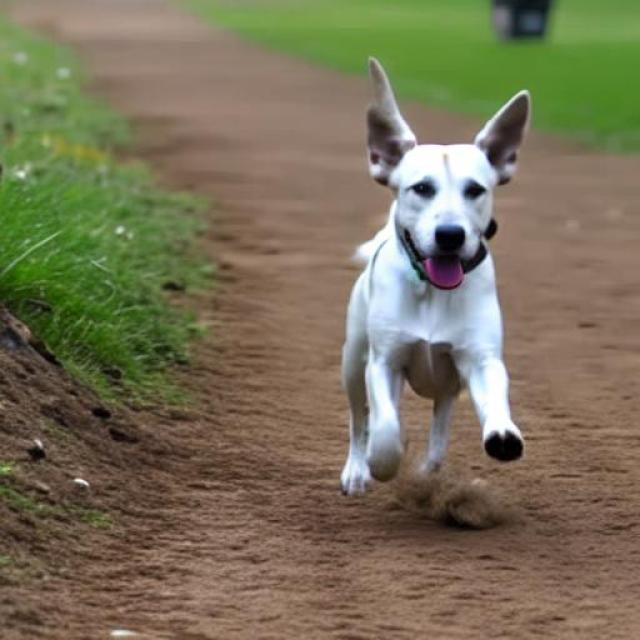Dog: (324, 54, 532, 497)
